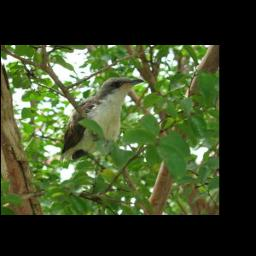Cuckoo: (59, 76, 143, 164)
